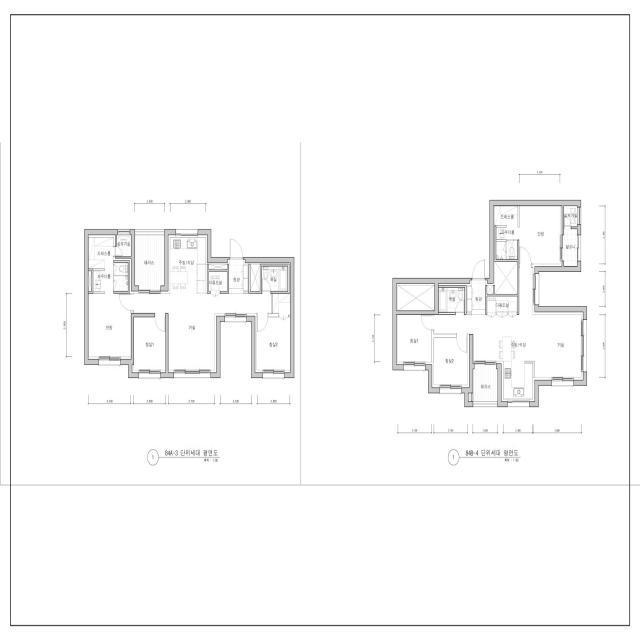space_balconi: (135, 235, 164, 290), (473, 365, 498, 402), (563, 229, 577, 266)
space_bedroom: (88, 294, 131, 359), (255, 294, 290, 373), (519, 206, 562, 266), (132, 317, 166, 373), (432, 338, 469, 388), (397, 315, 431, 365)
space_dressroom: (88, 235, 115, 292), (494, 206, 518, 240)
space_front: (466, 280, 487, 315), (228, 259, 249, 292)
space_kitchen: (473, 337, 535, 402), (168, 235, 207, 294)
space_living_room: (434, 268, 583, 380), (133, 291, 271, 373)
space_multipurpose_space: (487, 296, 518, 313), (209, 272, 227, 291)
space_other: (397, 284, 435, 311), (494, 262, 518, 294), (250, 263, 260, 291), (209, 263, 227, 270), (88, 271, 92, 291), (487, 284, 493, 294), (468, 393, 472, 402)
space_outdoor_room: (117, 235, 131, 256), (564, 206, 577, 227)
space_toilet: (438, 287, 465, 312), (262, 266, 288, 291), (496, 240, 518, 260), (114, 263, 128, 291)
